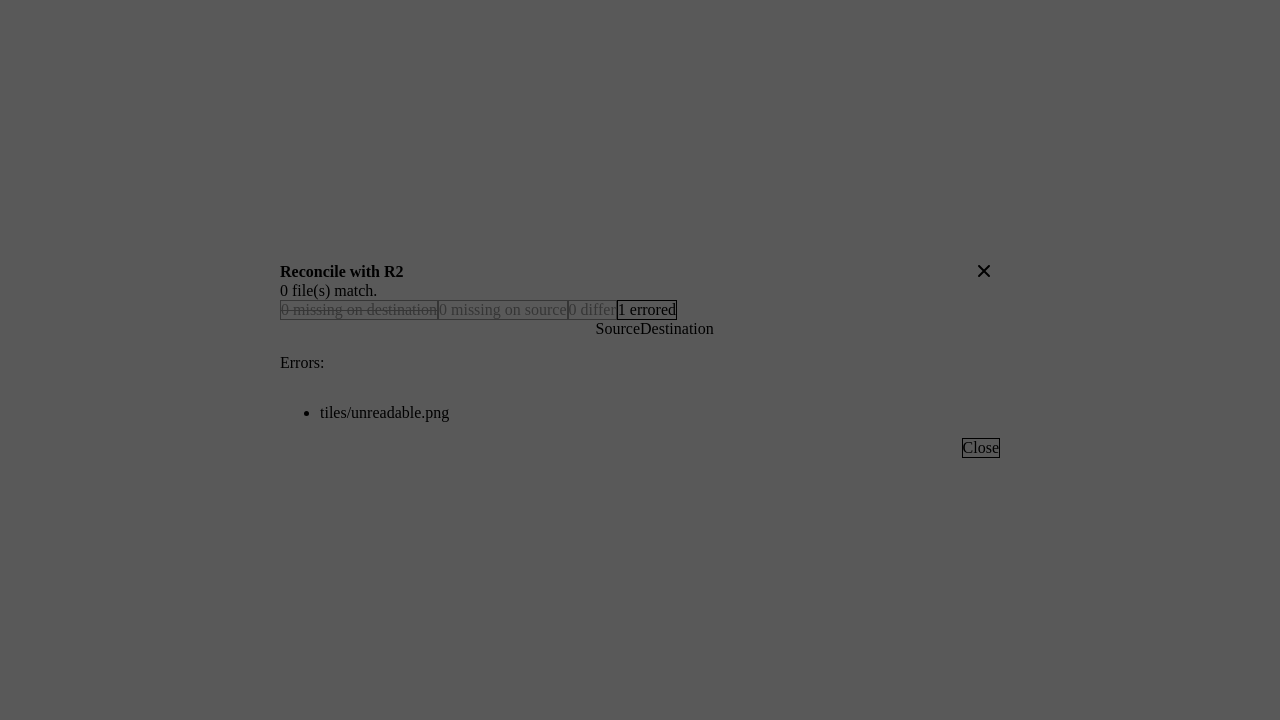
Test: ReconciliationModal › hides the separate errors list when the errored filter chip is clicked
The image size is (1280, 720).
Expected: the list item "tiles/unreadable.png" is shown, [320,404,449,421]
Step 1. Click the button "1 errored" → x=647, y=310, box [617,300,677,320]
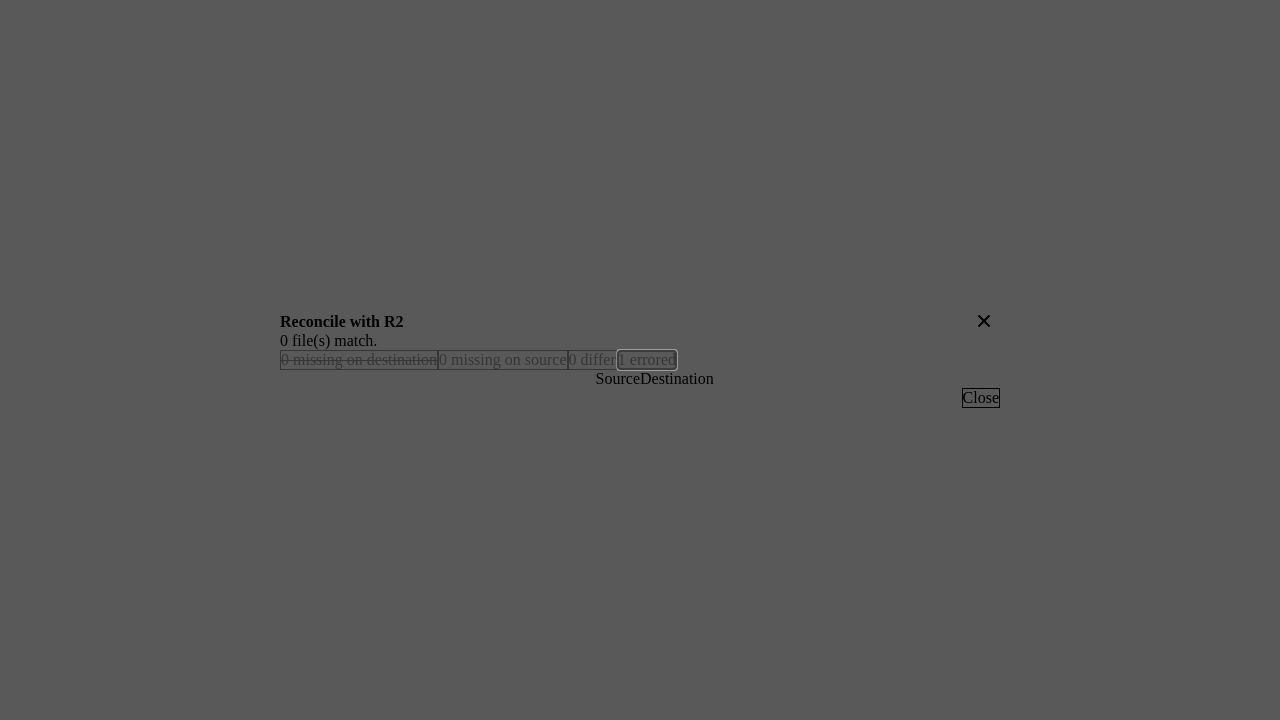
Expected: the list item "tiles/unreadable.png" is gone
Expected: the text "Errors:" is gone
